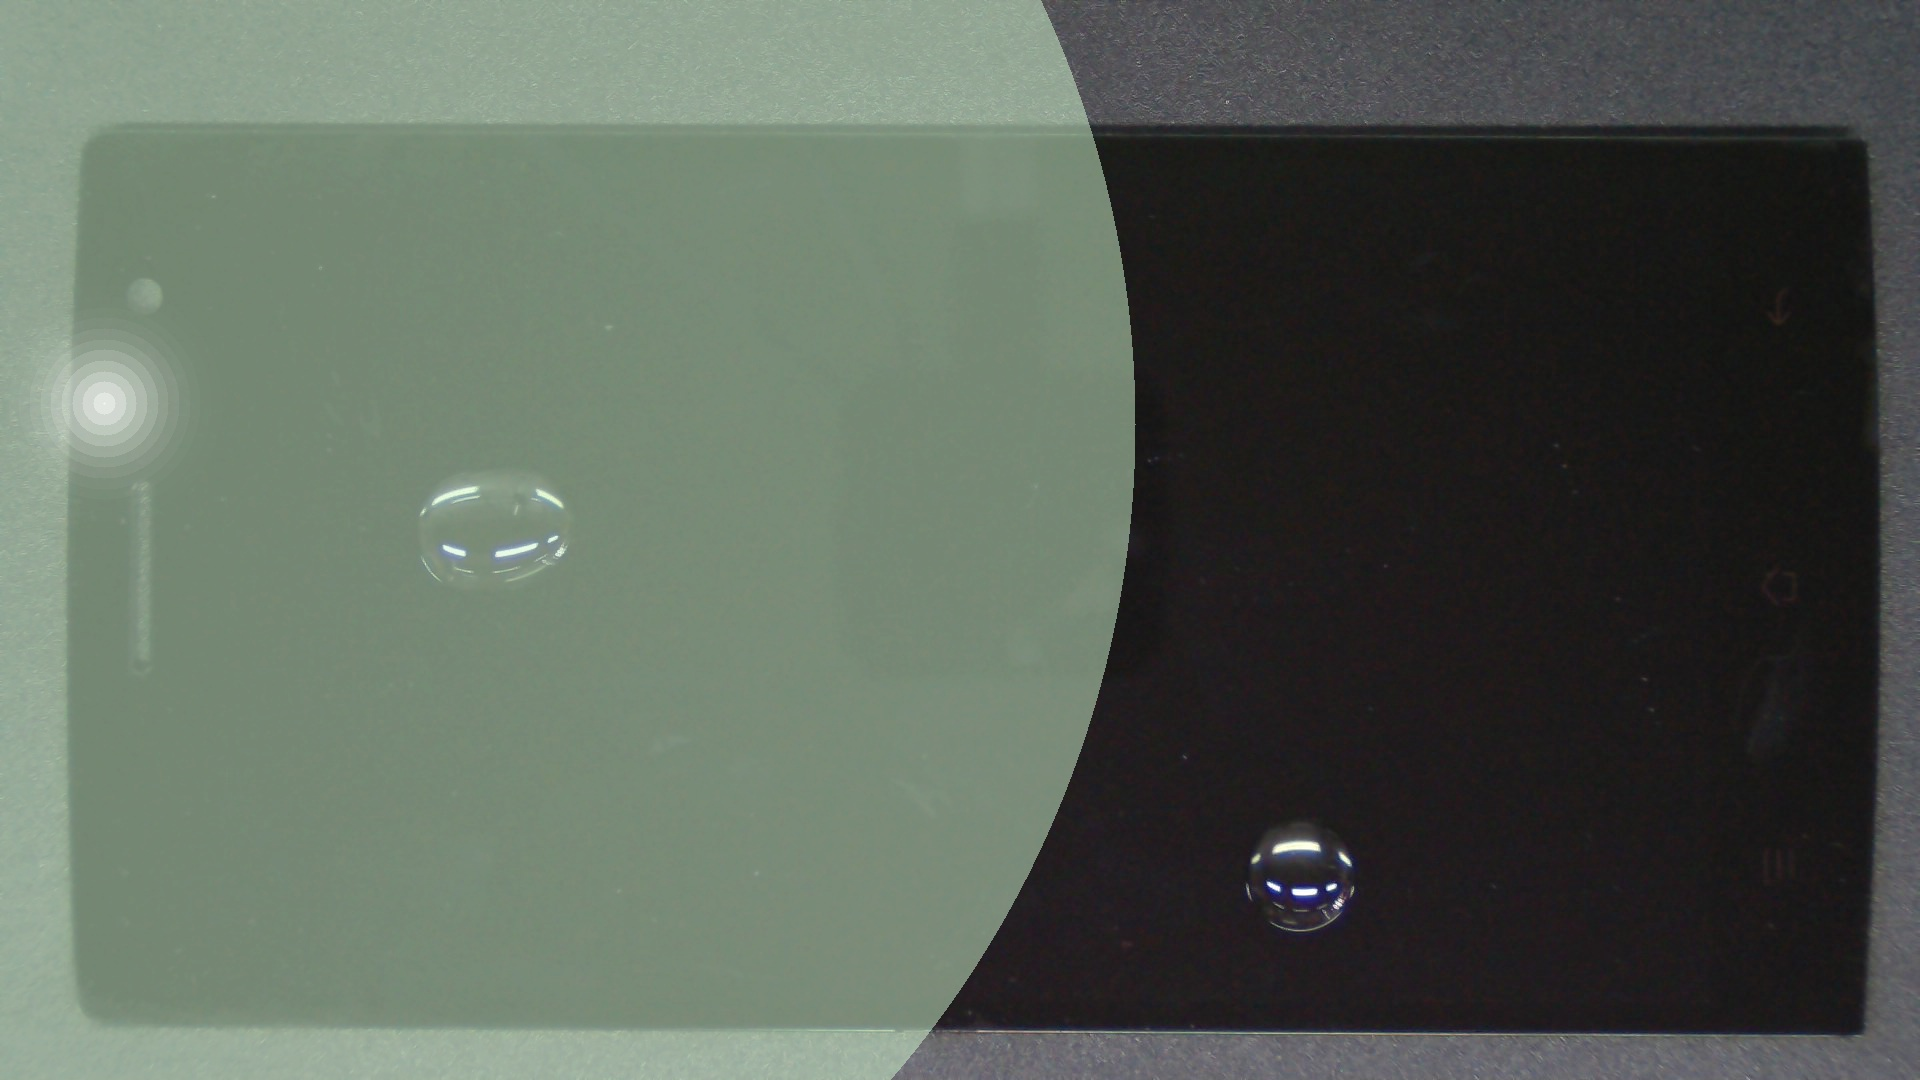oil: (651, 409, 1920, 1080), (249, 233, 746, 703)
